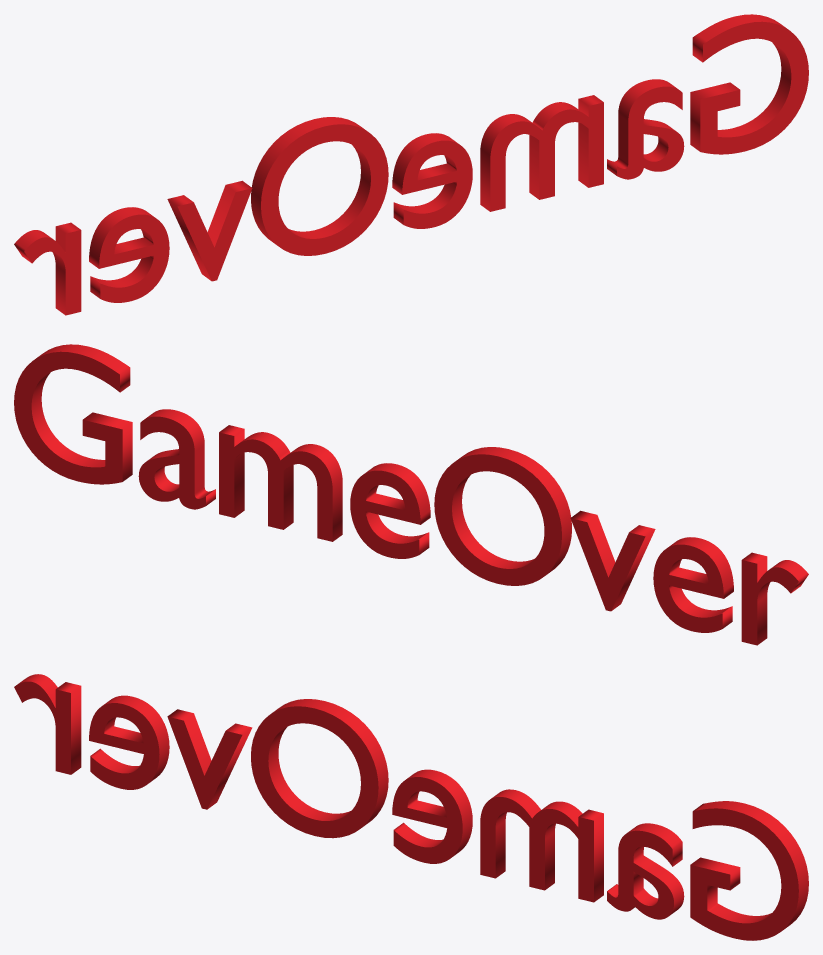
The model's file is OverFont.obj.
3 renders of one model, top to bottom at view 1: azimuth 30°, elevation 25°; view 2: azimuth 150°, elevation 25°; view 3: azimuth 330°, elevation 25°, orthographic.
Visible parts, largest first — view 1: テキスト; view 2: テキスト; view 3: テキスト.
Boxes of the visible parts, x1,y1,x2,y2 form: テキスト: (14,14,808,315); テキスト: (14,344,808,645); テキスト: (14,674,808,940).
Size of the model in its own units: 45.04 by 7 by 1.
Materials: 1 (1 with a texture image).
